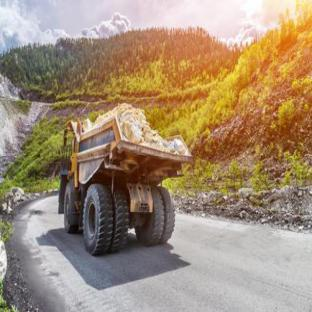Vehicle: (22, 90, 195, 255)
